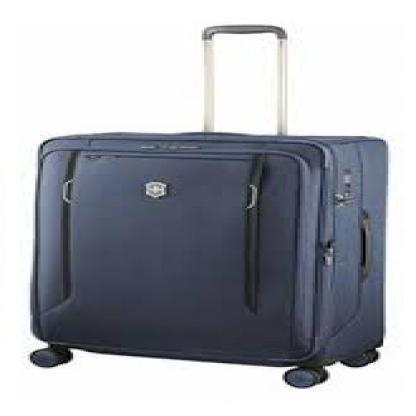maleta: (13, 128, 406, 397)
